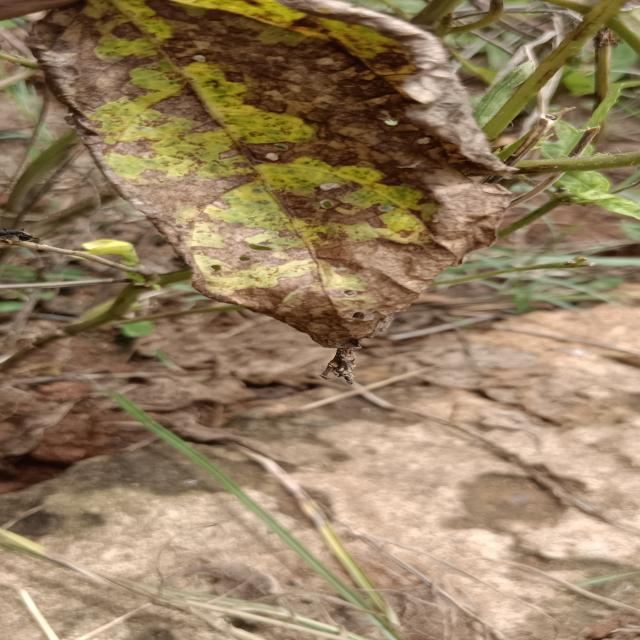Black gram_leaf spot: (21, 0, 534, 355)
